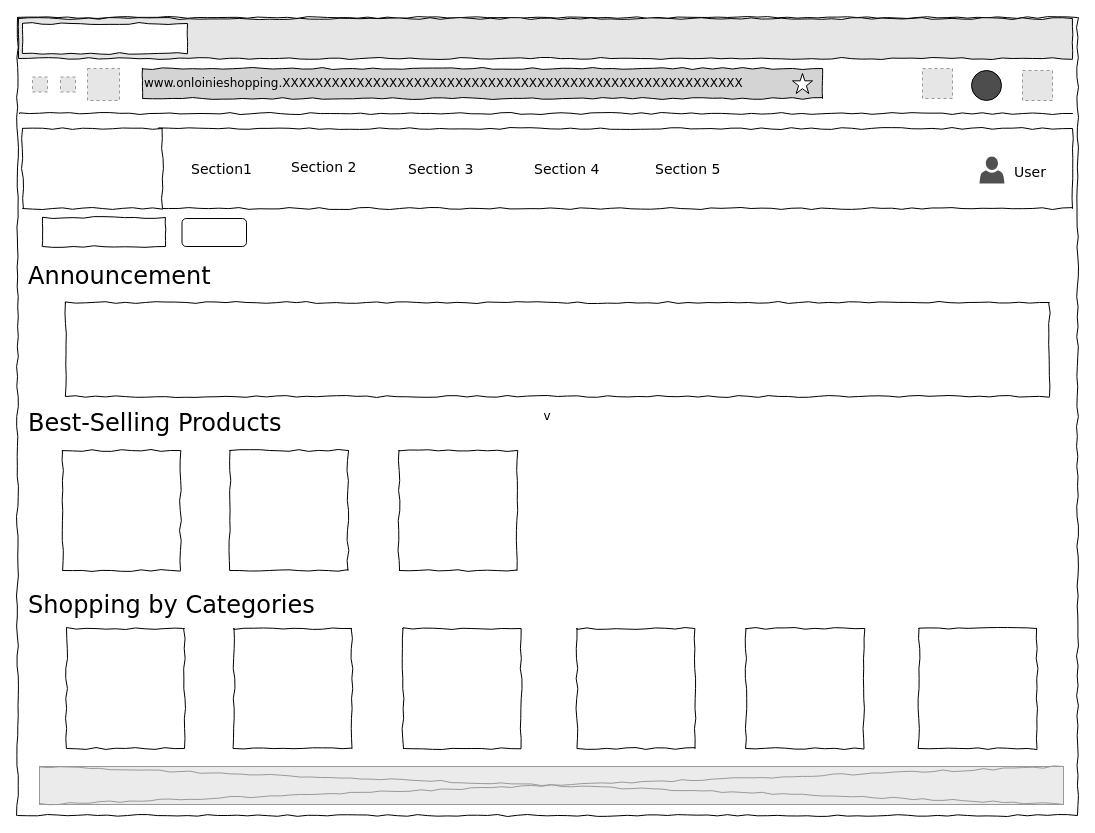
The diagram is 1095 pixels wide and 833 high, and some of its shapes have lost their labels. Grey dashed boxes stand in for pictures. The centre of each missing label's shape, as x and y in pixels:
"LOGO" belongs at point 92,168.
"Search" belongs at point 213,232.
